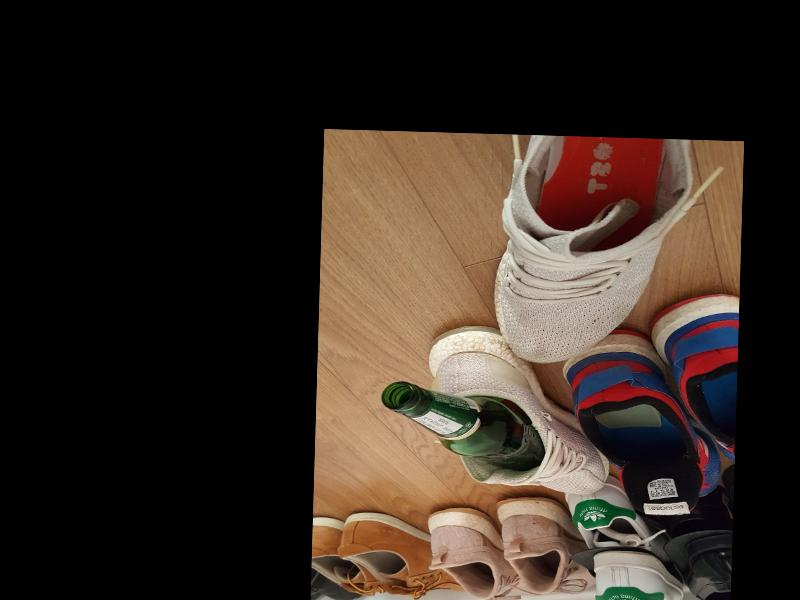Beer: (379, 381, 547, 474)
